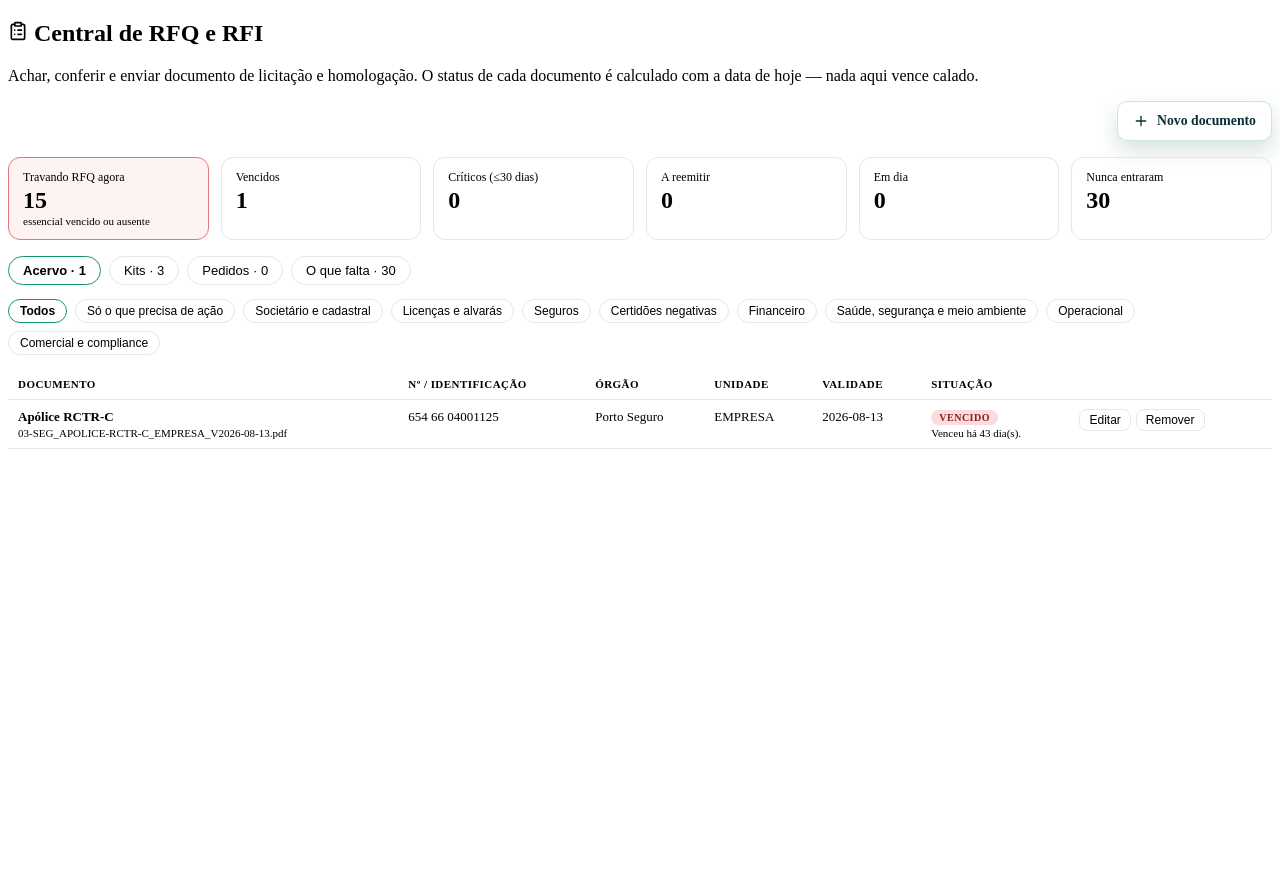
Central de RFQ › o kit com essencial vencido aparece TRAVADO, e o kit é conferido antes de sair
This screenshot has width=1280, height=888.
Click the button "Kits · 3" at {"x": 144, "y": 271}, box [109,256,179,285]
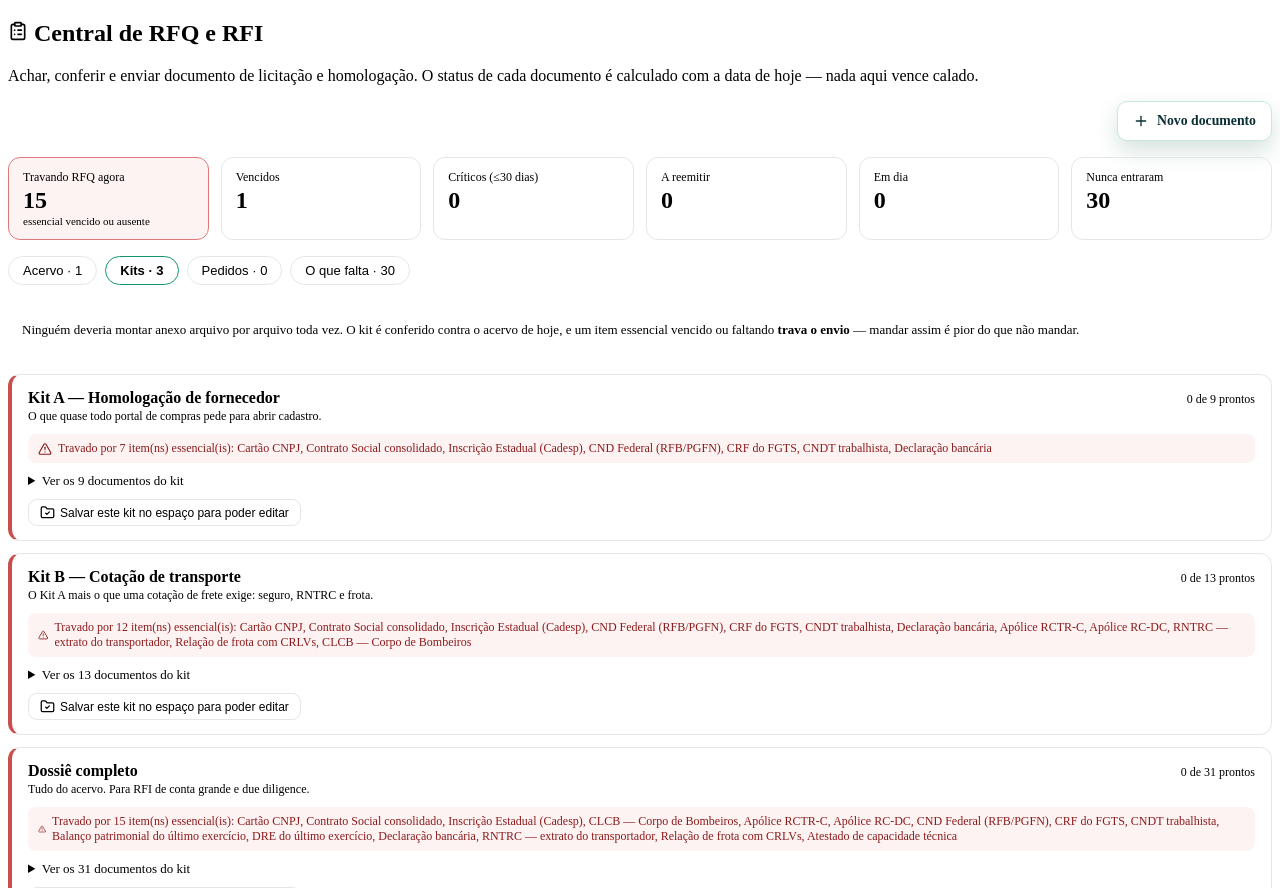
Check: the text "Kit B — Cotação de transporte" is shown, box [28,568,241,585]
Check: the text "Travado por" is shown, box [58,441,120,455]
